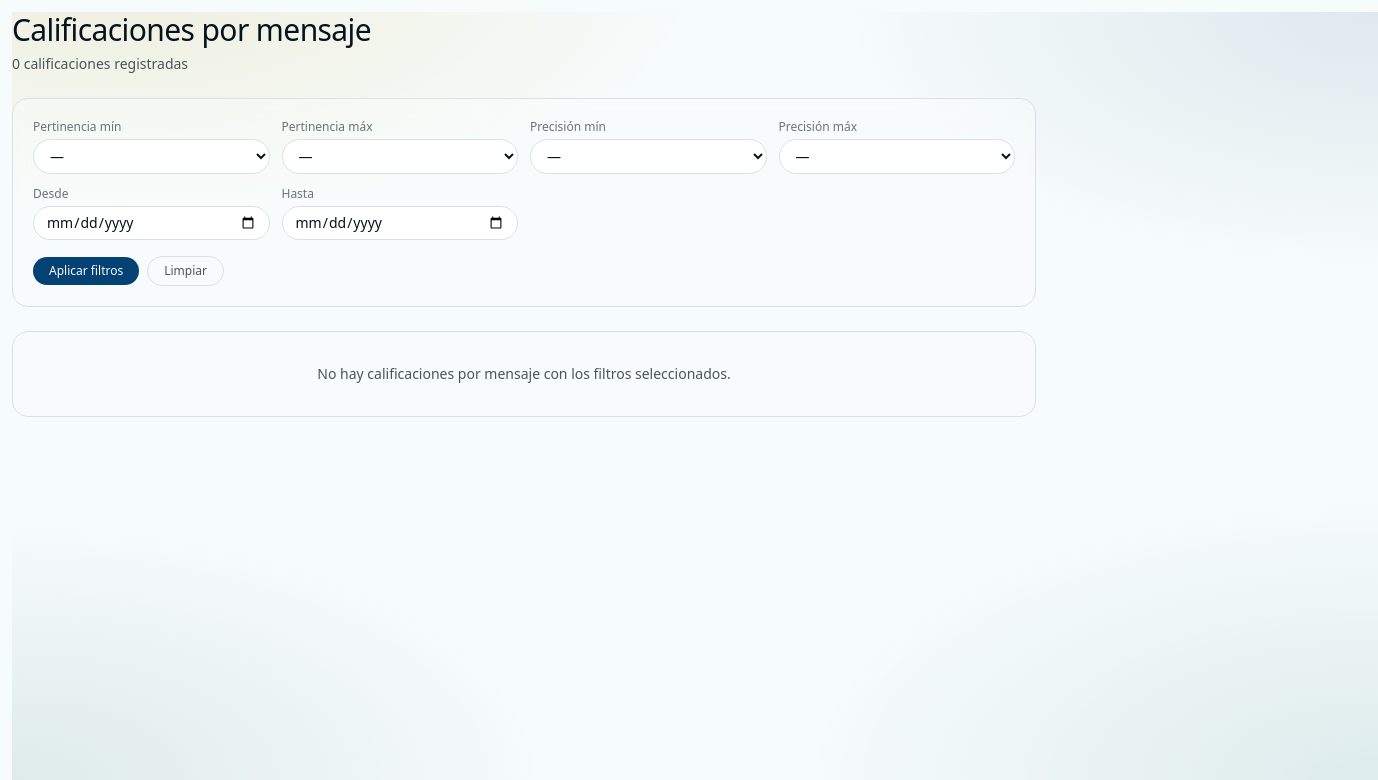
Scenario: MessageFeedbackPage — filtros administrativos (A3) › bloquea 'Aplicar filtros' si «Desde» es posterior a «Hasta»
The width and height of the screenshot is (1378, 780).
Type "2026-08-31" into the date field labelled "Desde" at [151, 223], box [33, 206, 270, 240]
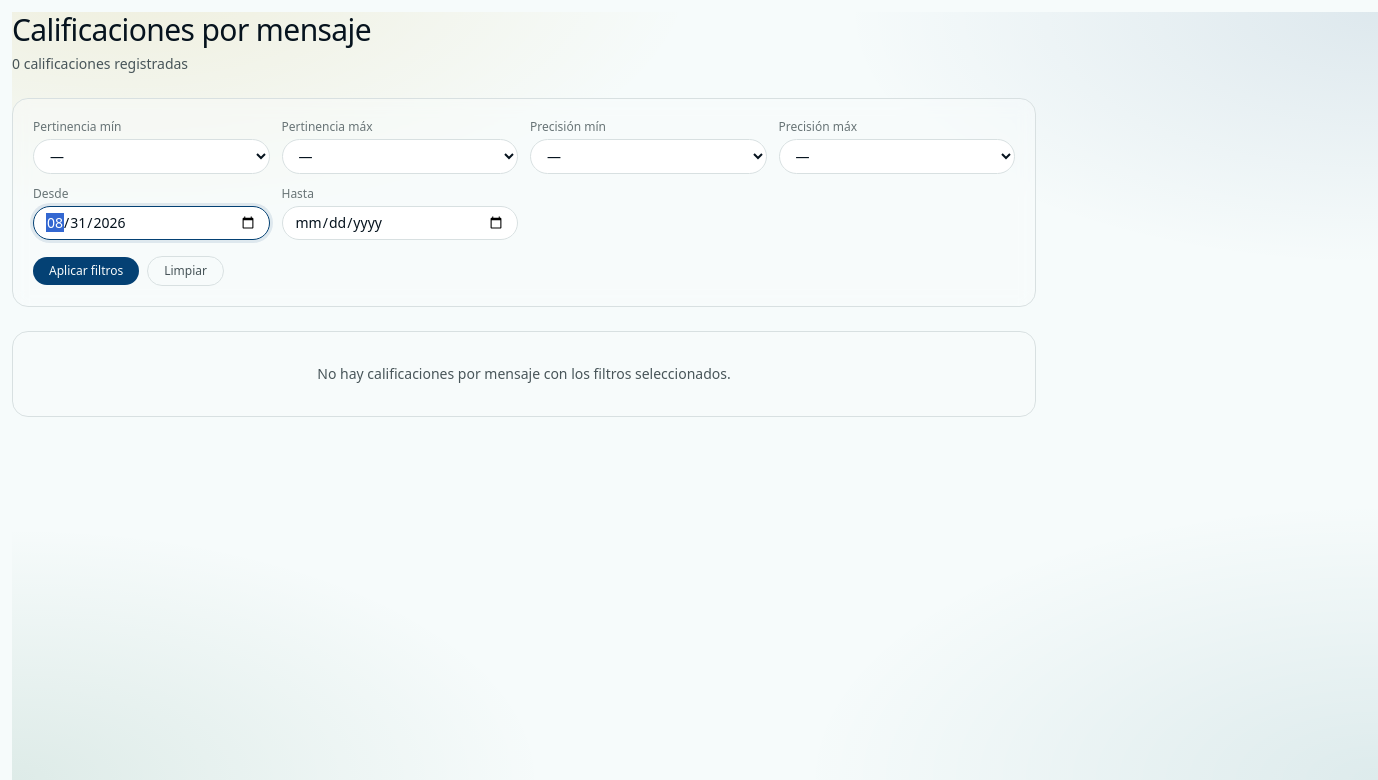
Type "2026-08-01" into the date field labelled "Hasta" at [400, 223], box [282, 206, 518, 240]
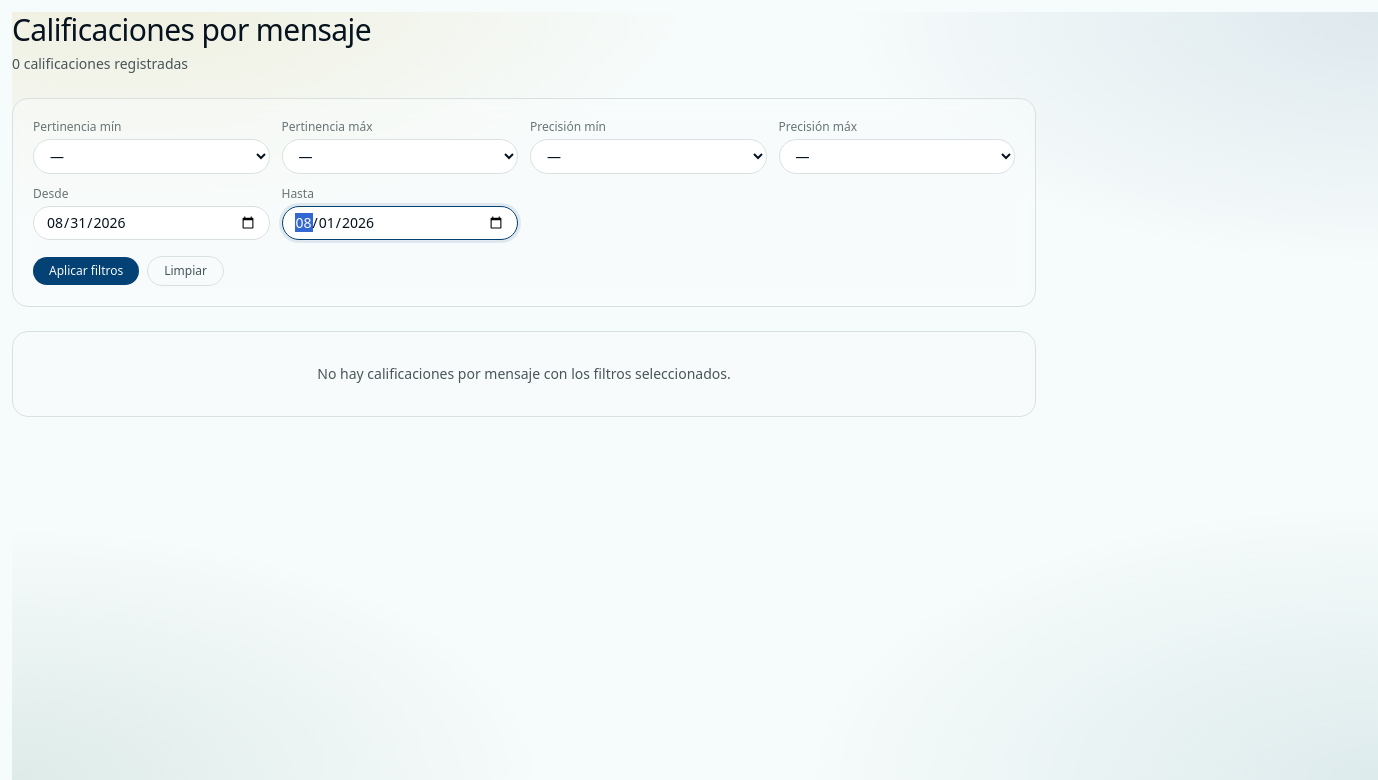
Click the button "Aplicar filtros" at [86, 271], box [33, 257, 139, 285]
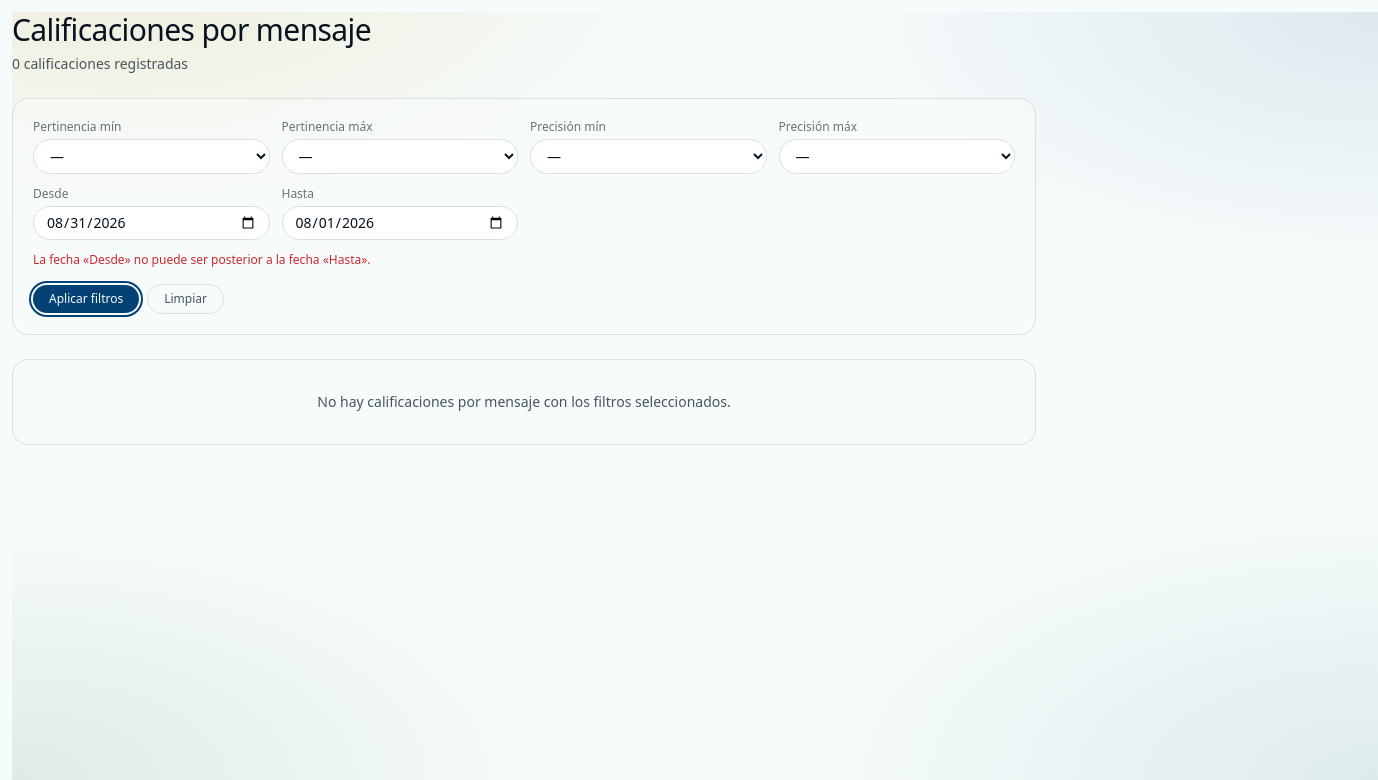
Expected: the message shows "no puede ser posterior a la fecha", [33, 251, 370, 268]
